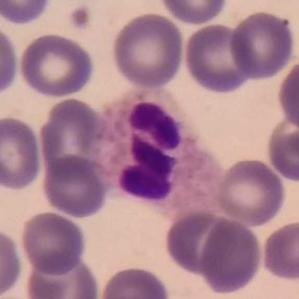Neutrophil: (92, 90, 228, 227)
Platelets: (68, 4, 92, 32)
RBC: (37, 96, 114, 182), (109, 10, 187, 90), (198, 215, 265, 297), (17, 31, 97, 99), (181, 21, 254, 95), (213, 155, 288, 227), (227, 8, 298, 82), (162, 208, 236, 278), (39, 154, 111, 219), (18, 210, 88, 276), (22, 253, 102, 299), (0, 114, 44, 192), (97, 263, 173, 299), (263, 111, 299, 184), (259, 218, 299, 283), (156, 0, 230, 26), (0, 226, 25, 298), (275, 58, 299, 132), (0, 21, 21, 100), (0, 0, 54, 27)
